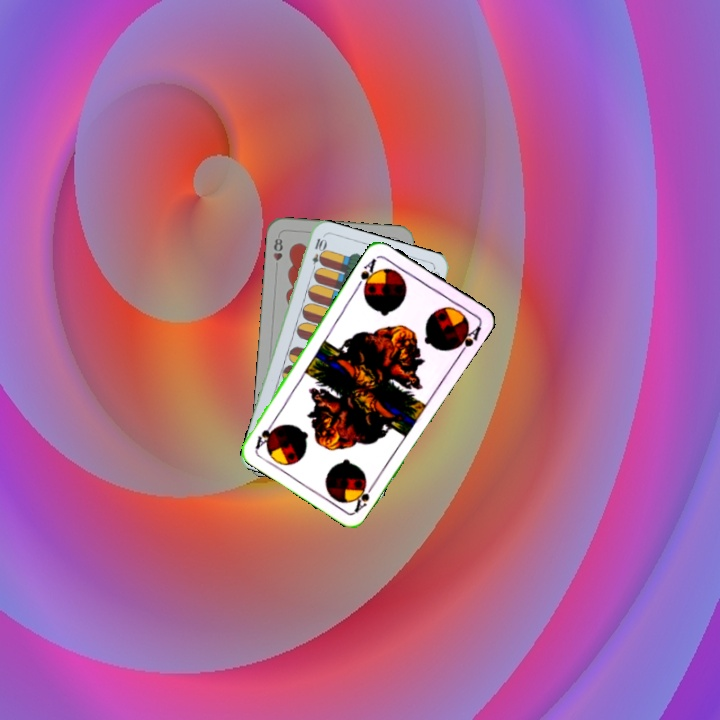E10: (308, 234, 327, 275)
H8: (269, 234, 285, 272)
SA: (352, 254, 381, 294), (350, 478, 378, 515)
